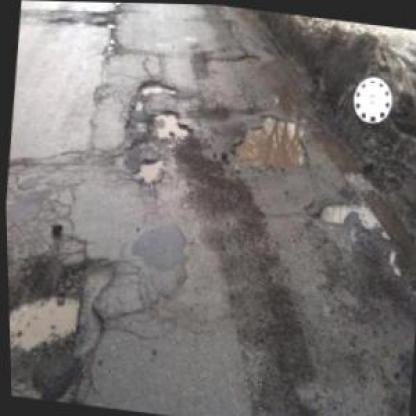pothole: (6, 243, 92, 366), (228, 107, 310, 172), (152, 102, 192, 142), (130, 151, 165, 185), (315, 193, 352, 224), (138, 75, 178, 100)
